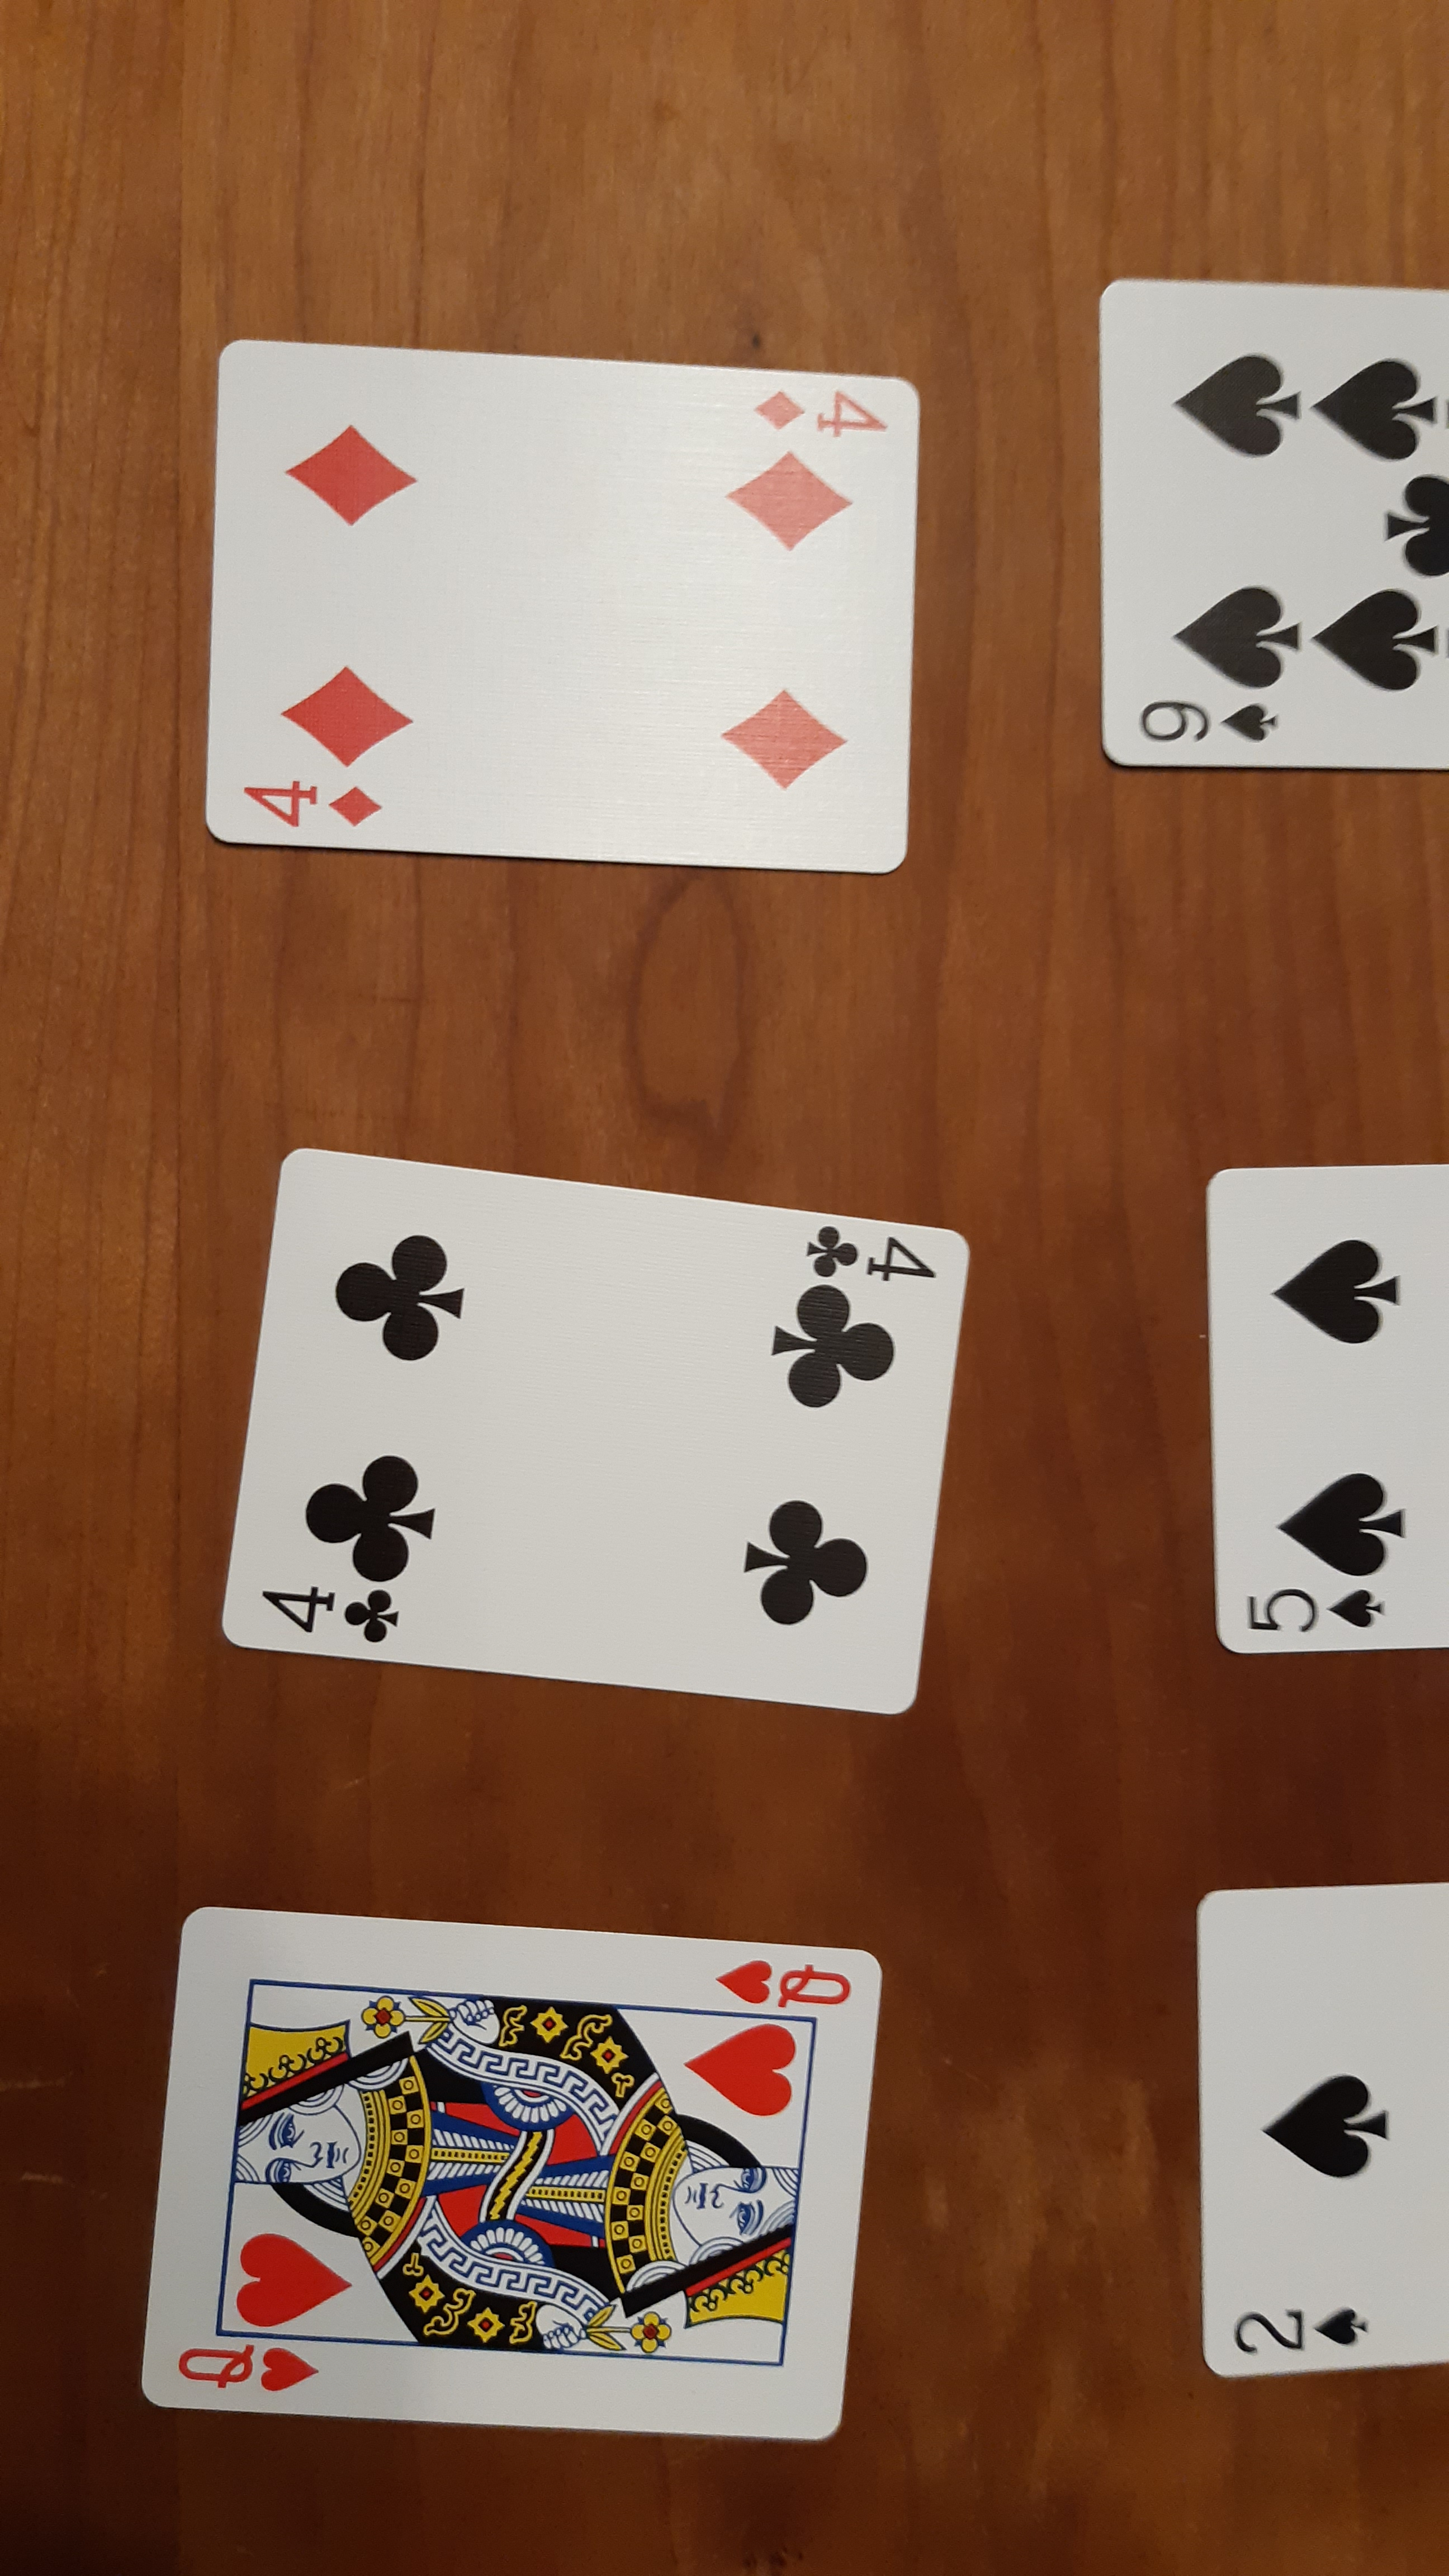Black_Club_4: (239, 1571, 421, 1651), (791, 1219, 938, 1295)
Black_Spade_2: (1217, 2289, 1369, 2367)
Black_Spade_5: (1228, 1575, 1403, 1640)
Black_Spade_9: (1120, 329, 1449, 759)
Red_Diamond_4: (232, 766, 391, 849), (734, 373, 897, 453)
Red_Heart_Queen: (172, 2334, 331, 2399), (715, 1950, 855, 2020)
